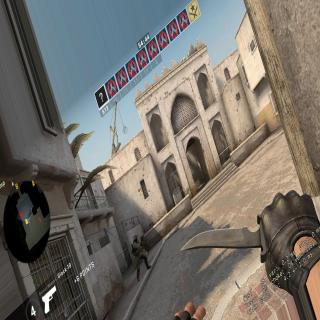CT-Body: (131, 232, 151, 283)
CT-Head: (133, 233, 138, 242)
